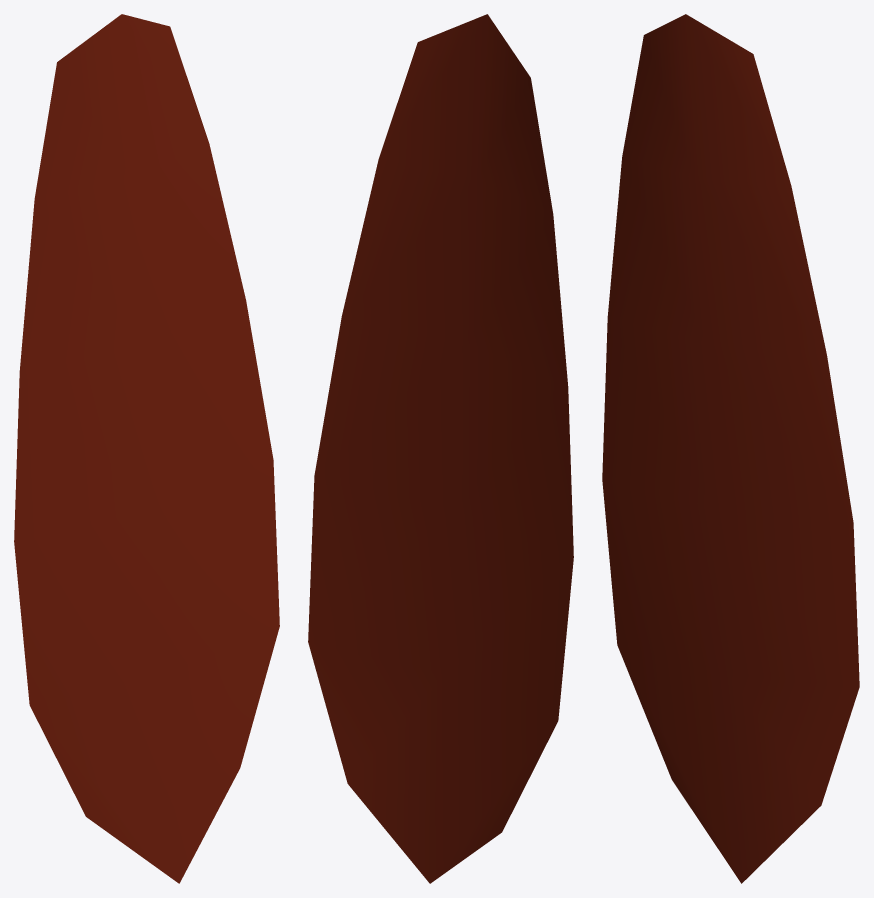
Rendered from pheasant_feather_flight_tertiary_023.obj.
The picture shows the model from 3 angles, left to right: view 1: azimuth 30°, elevation 25°; view 2: azimuth 150°, elevation 25°; view 3: azimuth 330°, elevation 25°; orthographic projection. The views are drawn at different scales.
Visible parts, largest first — view 1: feather_flight_tertiary_023; view 2: feather_flight_tertiary_023; view 3: feather_flight_tertiary_023.
Boxes of the visible parts, x1,y1,x2,y2 form: feather_flight_tertiary_023: [14, 14, 279, 883]; feather_flight_tertiary_023: [308, 14, 573, 883]; feather_flight_tertiary_023: [602, 14, 859, 883].
Size of the model in its own units: 0.00906 by 0.0288 by 0.000634.
